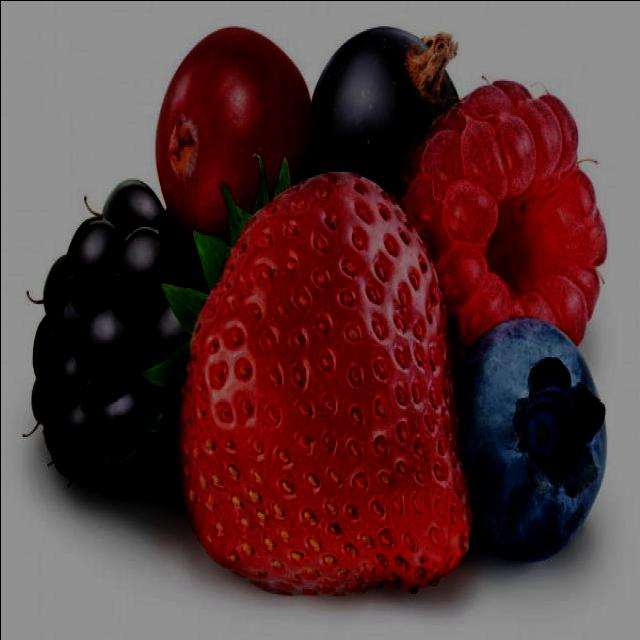ripe: (172, 162, 474, 608)
